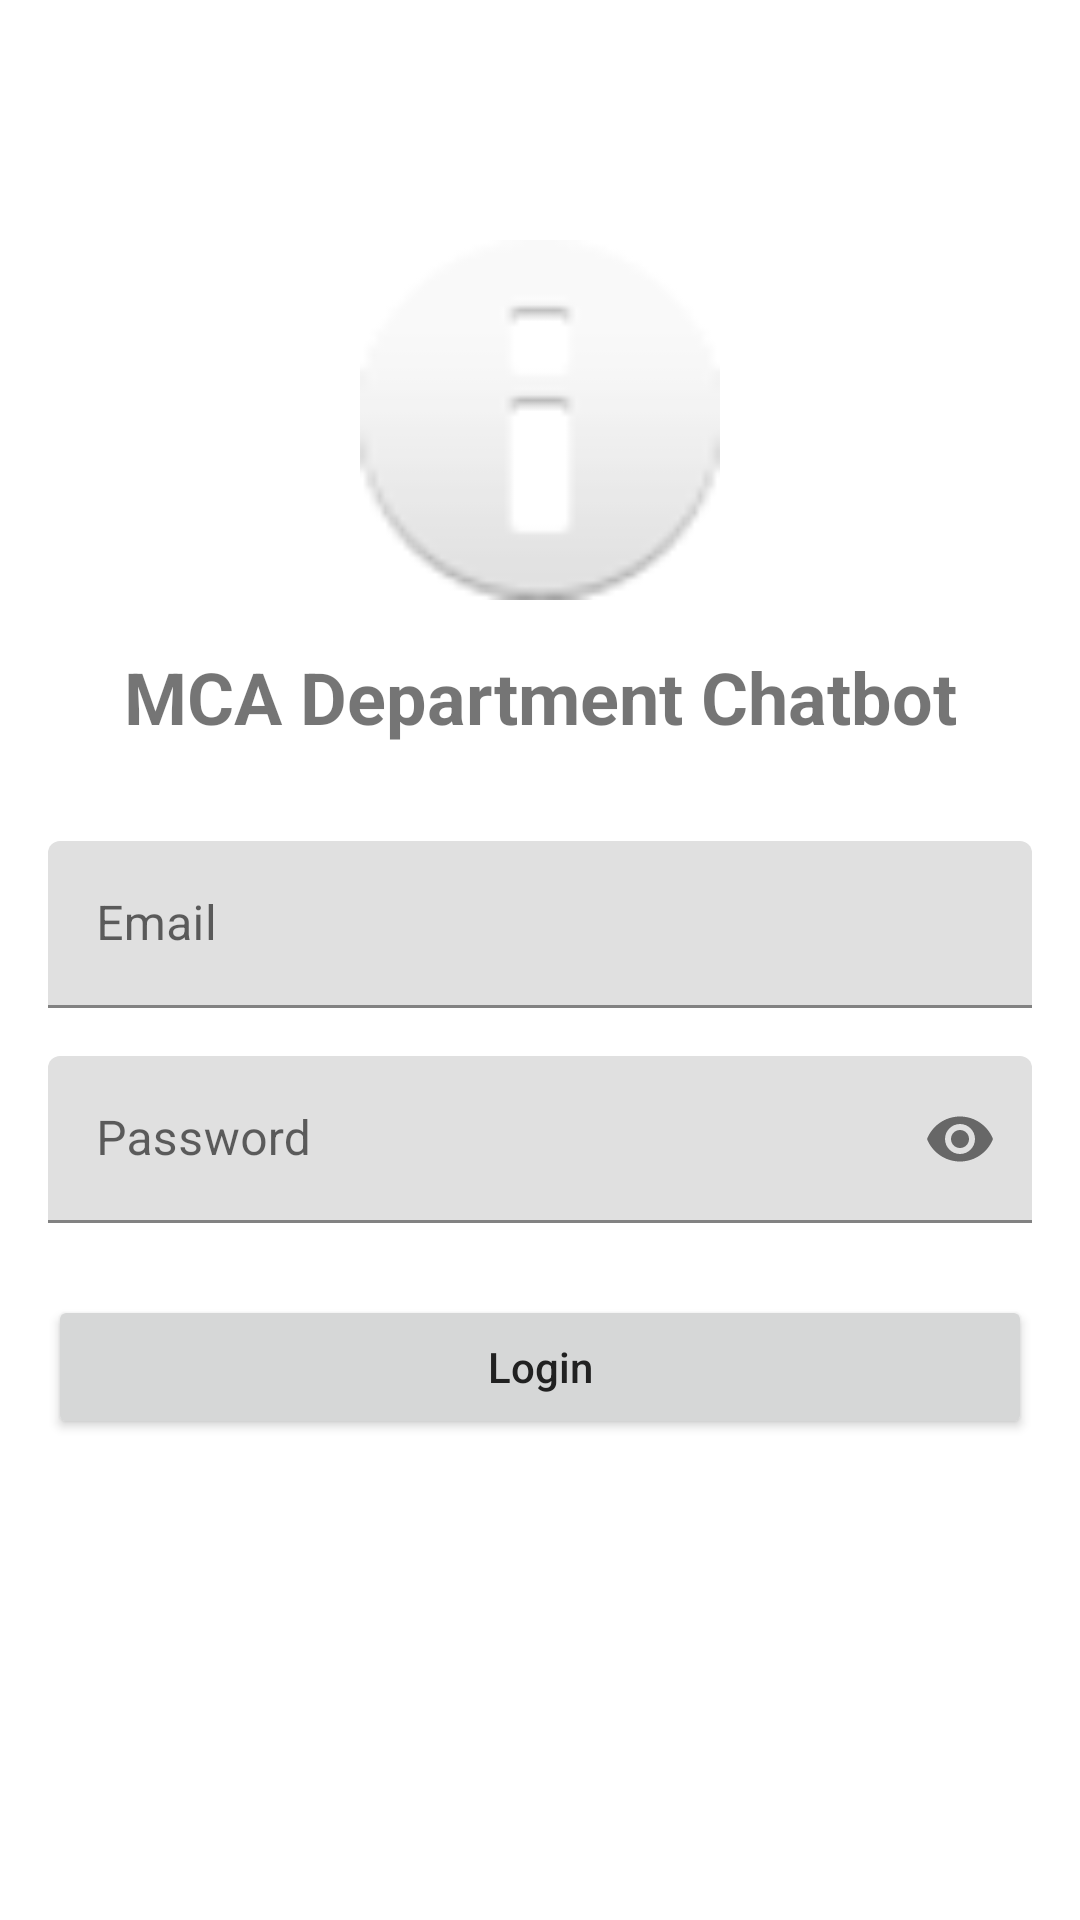

Icons on this 1080 × 1920 Android screen, each with the point to tap as (x,y):
info: (540,453)
